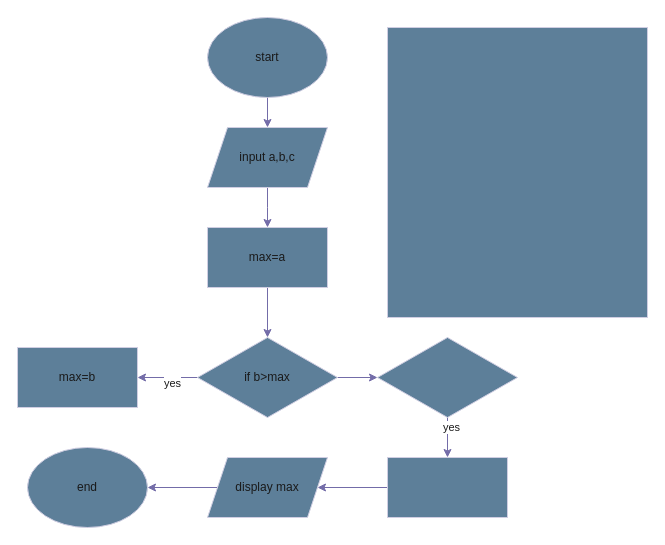
Image size: 665x545. Some labels were removed from this diagram. Here are the shapes that lost their labels. From the top down, the box of each, then its label:
(386, 26, 648, 318): start input a,b,c max=a if b>max max=b if c>max max=c display max end
(376, 336, 518, 418): if c>max
(386, 456, 508, 518): max=c
